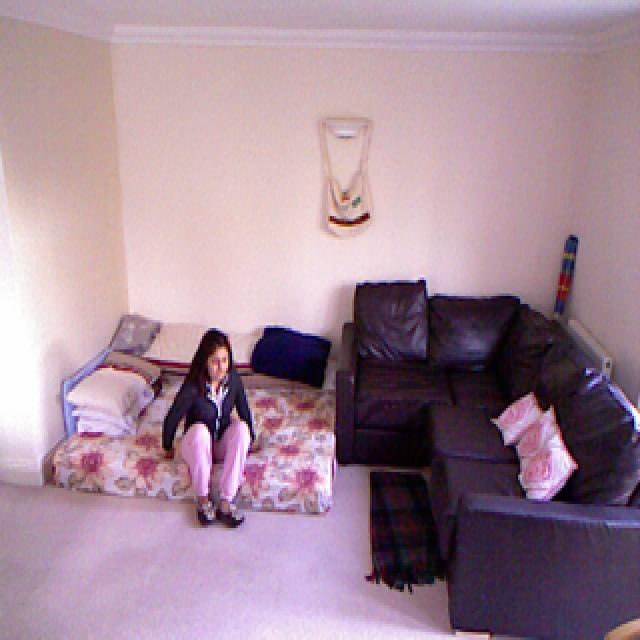sitting: (161, 329, 258, 527)
